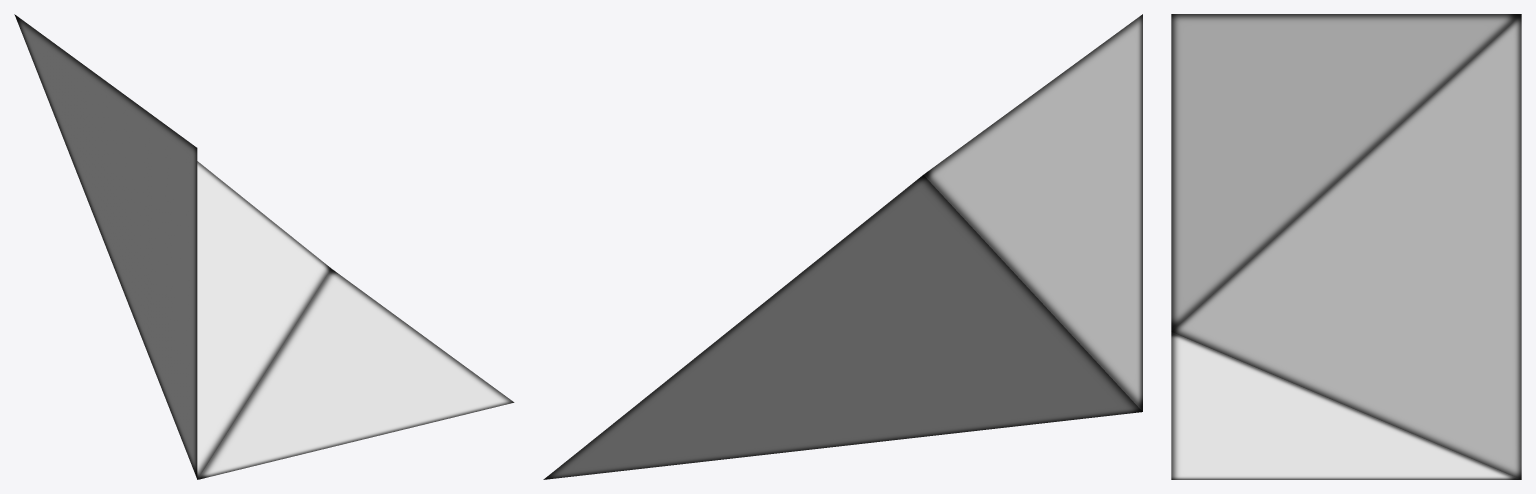
Rendered from corner_3-slope_inside_2-side.fbx.
3 views of the same model, side by side, from view 1: azimuth 30°, elevation 25°; view 2: azimuth 150°, elevation 25°; view 3: azimuth 270°, elevation 25° (orthographic). The views are drawn at different scales.
Parts seen in each view (by area): view 1: corner_3-slope_inside_2-side; view 2: corner_3-slope_inside_2-side; view 3: corner_3-slope_inside_2-side.
Part boxes in pixels (x1,y1,x2,y2): corner_3-slope_inside_2-side: (14,14,514,479); corner_3-slope_inside_2-side: (543,14,1142,479); corner_3-slope_inside_2-side: (1171,14,1521,479).
Bounding box in the file's own units: 100 × 100 × 100.
